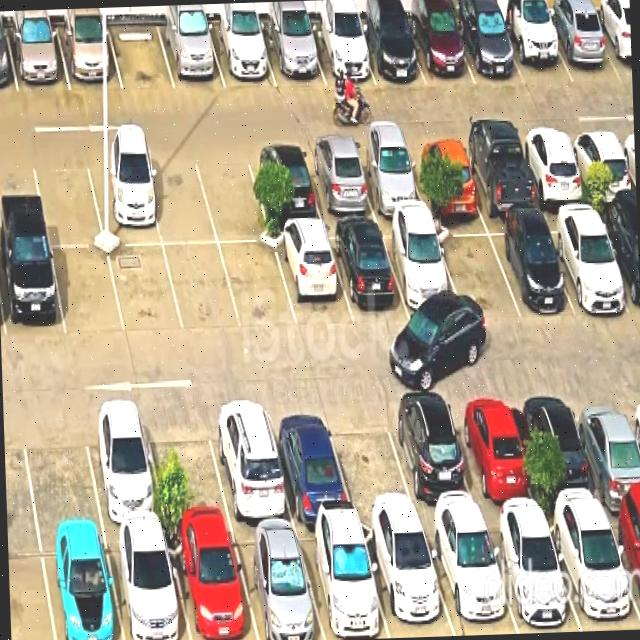empty: (325, 400, 418, 519), (143, 405, 232, 528), (18, 406, 102, 532), (433, 222, 520, 320), (193, 146, 271, 243), (143, 151, 217, 244), (163, 244, 241, 332), (31, 153, 104, 245), (108, 245, 183, 334), (219, 243, 297, 328), (51, 247, 124, 336), (107, 22, 175, 89)
occupied: (383, 395, 482, 520), (447, 392, 540, 516), (545, 510, 640, 631), (483, 516, 581, 633), (422, 518, 518, 635), (205, 399, 294, 525), (296, 523, 389, 640), (360, 523, 454, 638), (230, 527, 325, 640), (265, 402, 354, 522), (518, 390, 604, 513), (80, 406, 166, 528), (166, 528, 257, 640), (105, 529, 190, 640), (39, 531, 123, 640), (542, 211, 631, 312), (485, 219, 573, 317), (570, 389, 640, 509), (272, 226, 353, 328), (379, 223, 465, 319), (326, 223, 409, 322), (85, 152, 162, 245), (458, 136, 539, 215), (0, 243, 65, 339), (246, 145, 323, 224), (302, 143, 377, 220), (351, 142, 427, 216), (406, 139, 482, 213), (497, 12, 573, 86), (542, 11, 621, 82), (516, 132, 590, 207), (452, 12, 524, 84), (405, 12, 475, 86), (566, 130, 636, 203), (355, 17, 426, 85), (596, 210, 640, 315), (206, 22, 276, 88), (157, 22, 225, 89), (56, 24, 122, 90), (306, 22, 375, 85), (6, 25, 70, 92), (260, 23, 325, 86), (605, 507, 640, 618), (591, 10, 632, 80)
